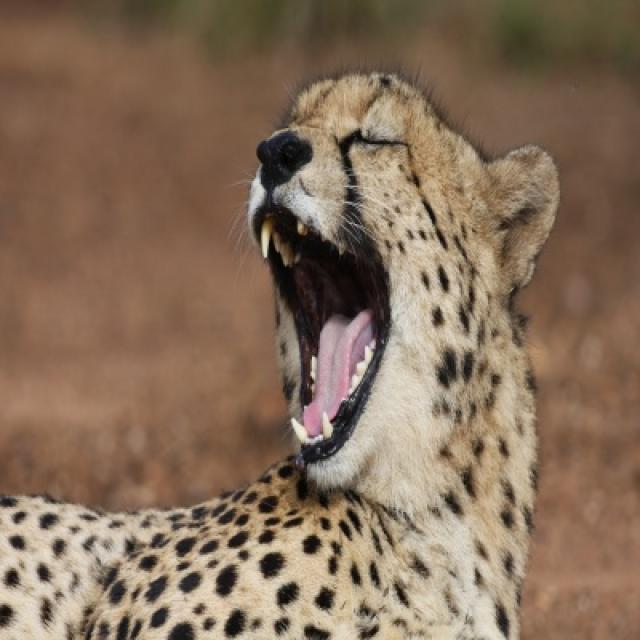Cheetah: (0, 70, 562, 638)
